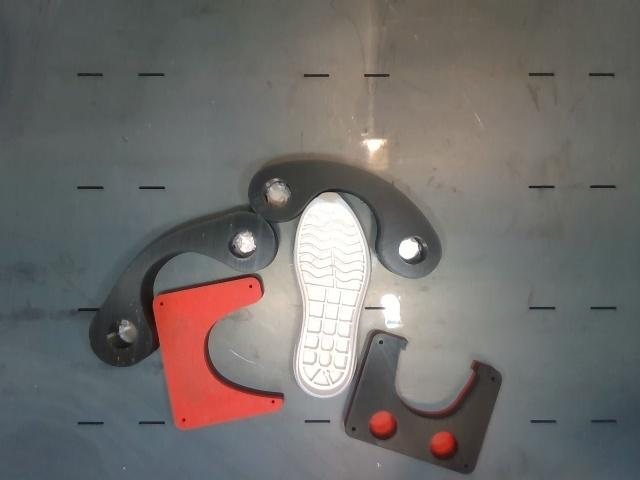shoes: (295, 193, 370, 396)
